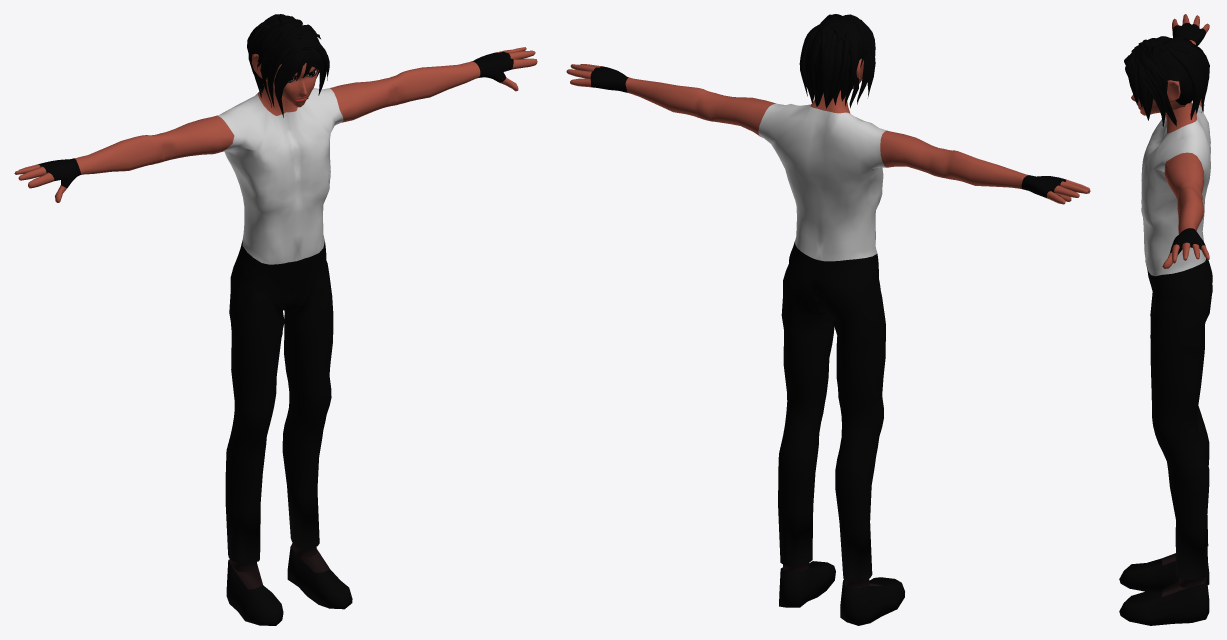
Rendered from HOMEN_5.obj.
3 renders of one model, left to right at view 1: azimuth 30°, elevation 25°; view 2: azimuth 150°, elevation 25°; view 3: azimuth 270°, elevation 25°, orthographic. The views are drawn at different scales.
Parts seen in each view (by area): view 1: homen5_CORPO5_corpo.015_Cube.006_Cube.007; view 2: homen5_CORPO5_corpo.015_Cube.006_Cube.007; view 3: homen5_CORPO5_corpo.015_Cube.006_Cube.007.
Boxes of the visible parts, <box> form: homen5_CORPO5_corpo.015_Cube.006_Cube.007: <box>14,14,537,625</box>; homen5_CORPO5_corpo.015_Cube.006_Cube.007: <box>566,14,1090,625</box>; homen5_CORPO5_corpo.015_Cube.006_Cube.007: <box>1119,14,1212,625</box>.
Size of the model in its own units: 1.91 by 2.05 by 0.3084.
